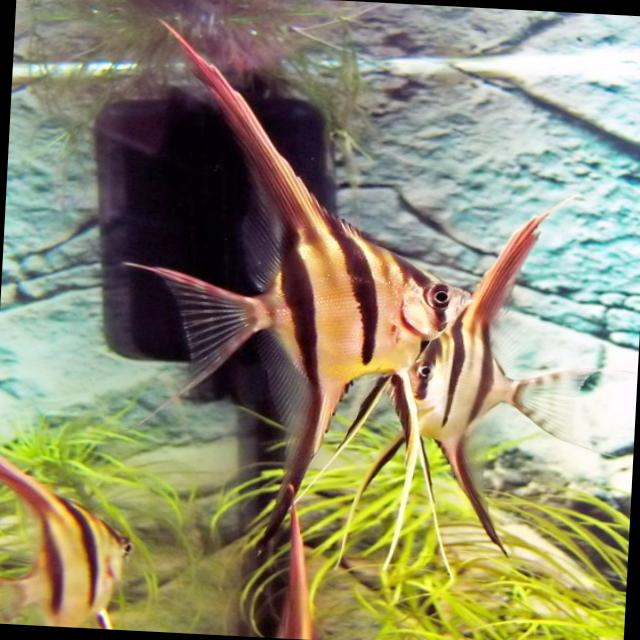AngelFish: (136, 22, 477, 540), (400, 205, 600, 568)
